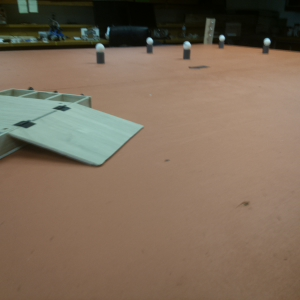obstacle: (94, 41, 105, 63), (145, 36, 153, 52), (262, 36, 270, 52), (218, 33, 224, 49), (184, 41, 189, 59)
slope: (15, 105, 139, 159)
